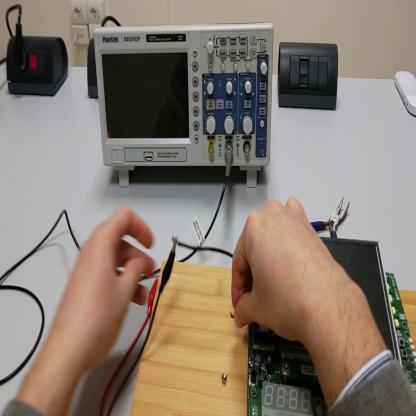hand: (57, 204, 157, 375), (230, 196, 336, 345)
low voltage board: (173, 237, 416, 416)
oscilloscope: (94, 23, 276, 189)
pliers: (311, 197, 353, 236)
socket: (7, 37, 70, 98), (88, 39, 100, 98)
working area: (130, 259, 415, 415)
